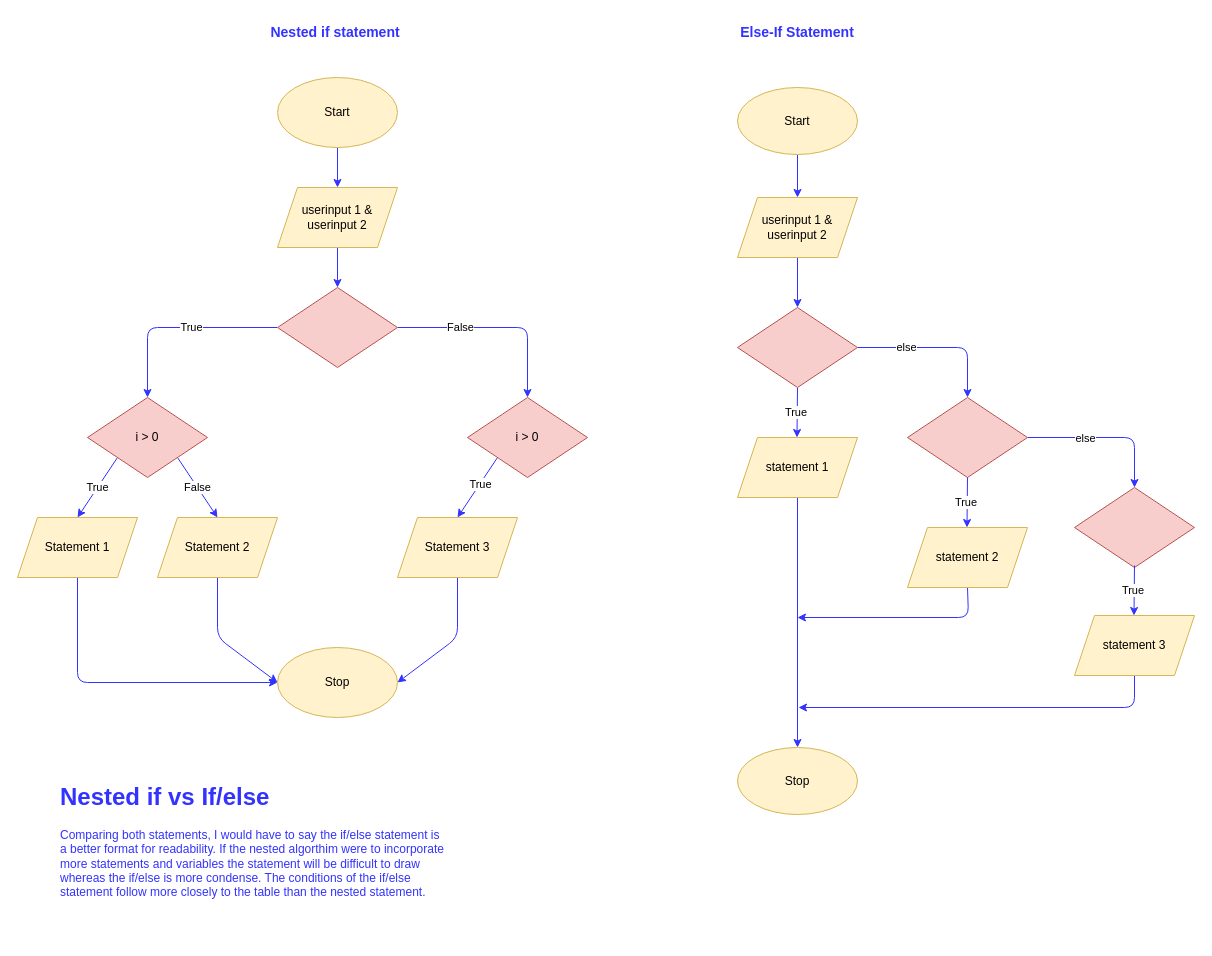
Some shapes in this 1212 by 956 pixel diagram are drawn without their labels. The shapes that lost their labels are listed below. From the top down, each one's centre as x and y in pixels, then its label:
the point at 337,327: j > 0
the point at 797,347: if i > 0 and j > 0
the point at 967,437: if not(i > 0) and j > 0
the point at 1134,527: if i > 0 and not(j > 0)
